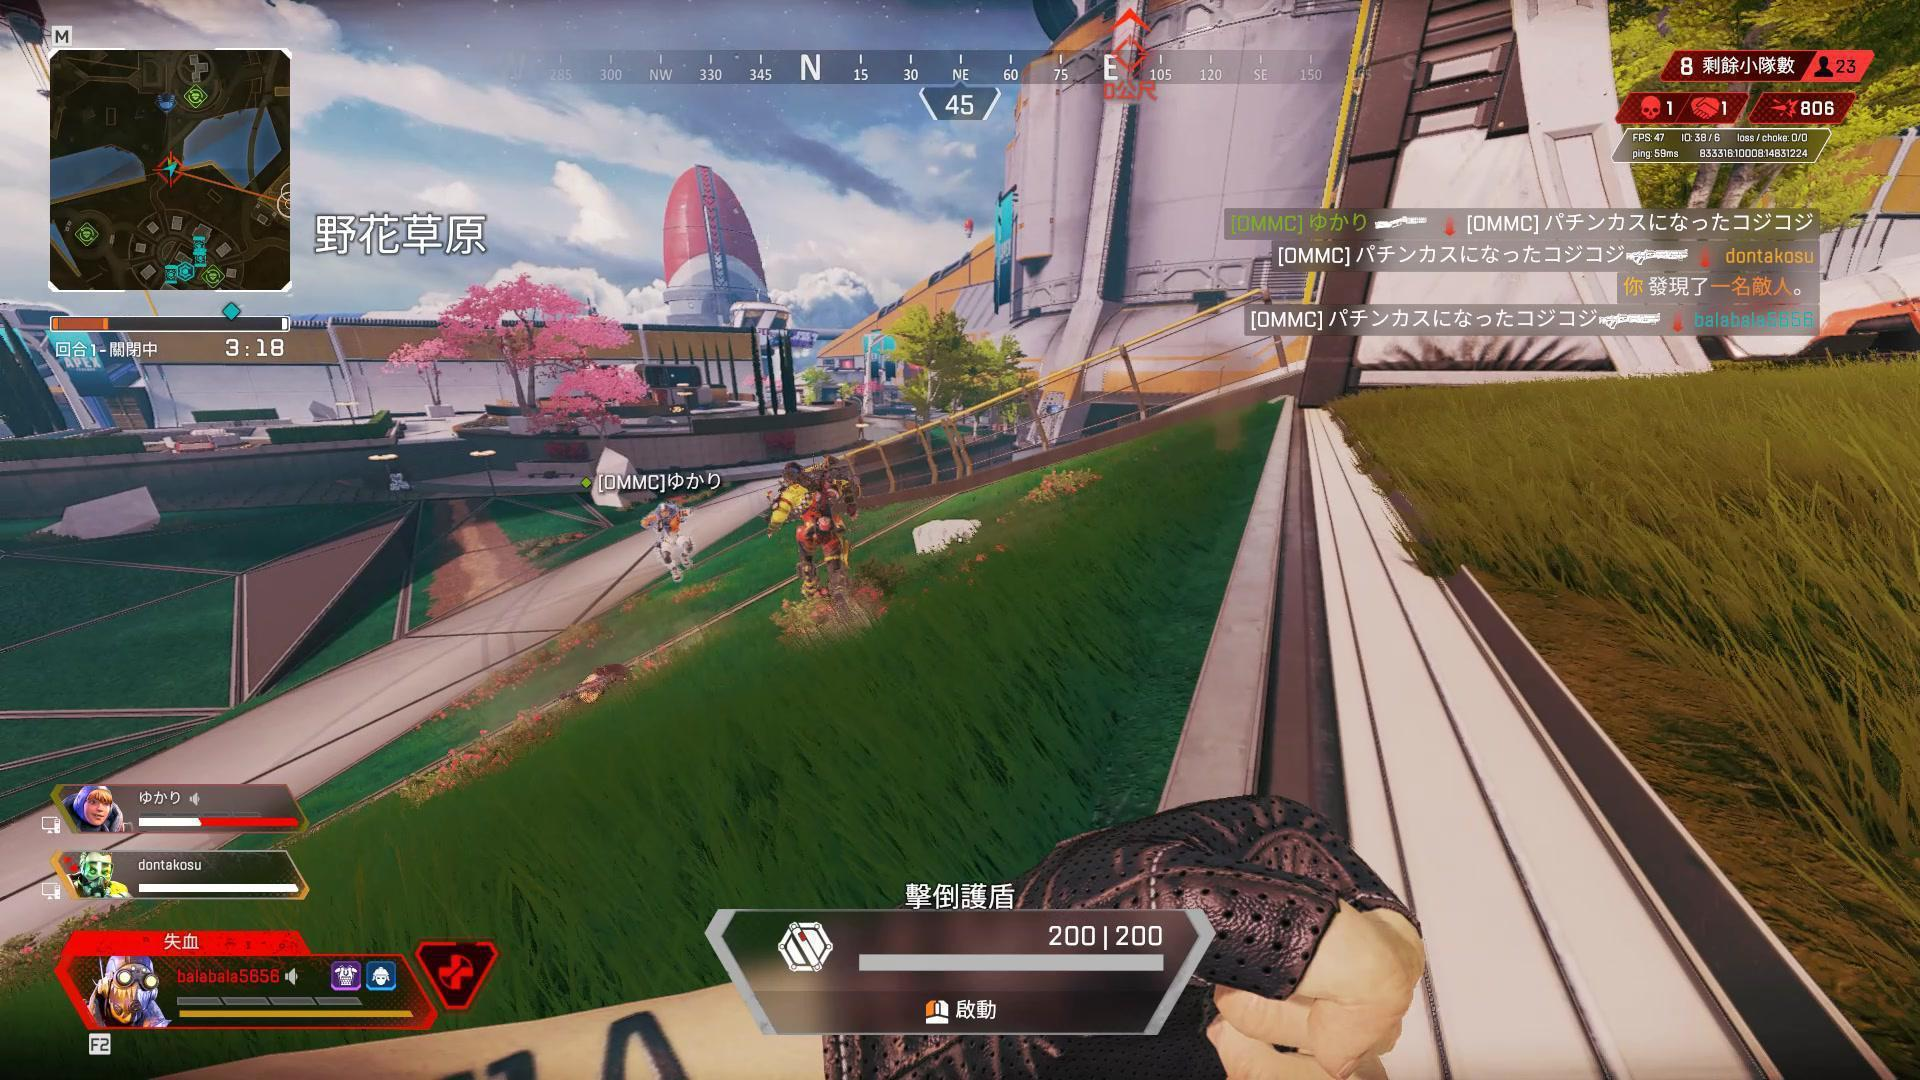avatar: (767, 452, 864, 611), (640, 499, 695, 582)
